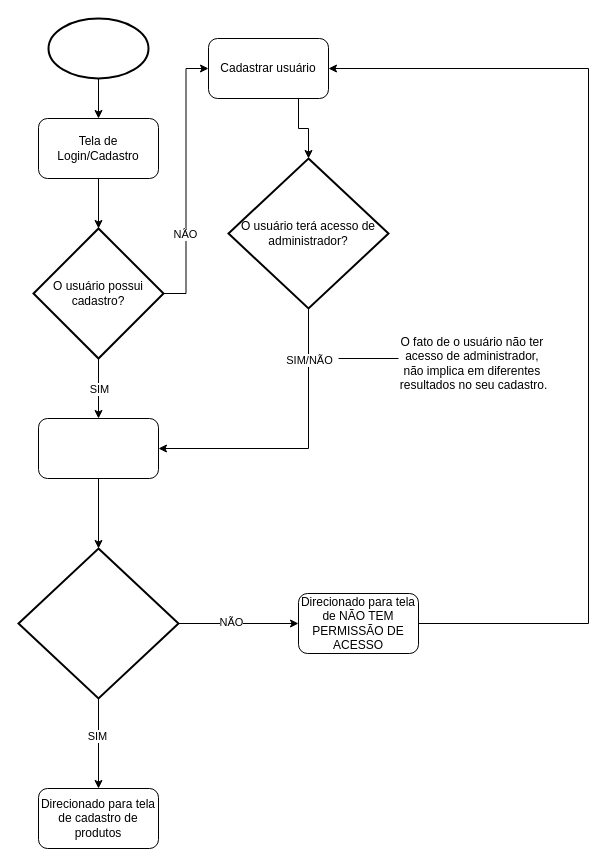
Some shapes in this 614 by 866 pixel diagram are drawn without their labels. The shapes that lost their labels are listed below. From the top down, each one's centre as x and y in pixels, then its label:
At pixel 98 48: "Start".
At pixel 98 448: "Fazer login".
At pixel 98 623: "O usuário tem acesso de administrador?".
